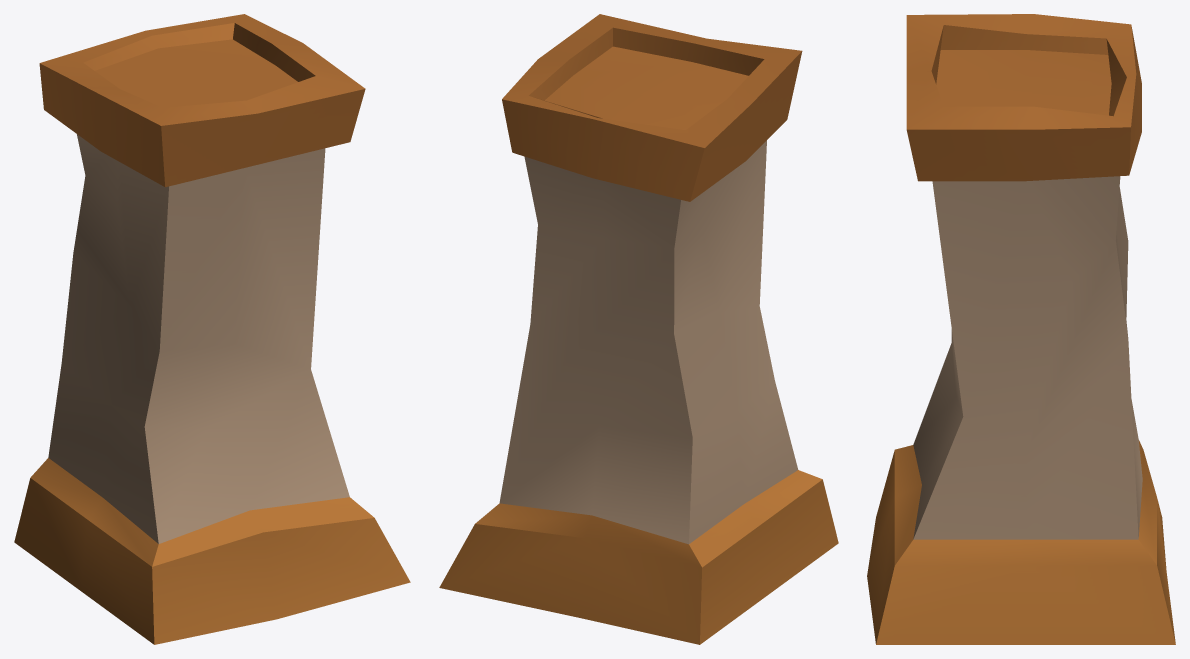
File: Pillar_dent_B.fbx
3 renders of one model, left to right at view 1: azimuth 30°, elevation 25°; view 2: azimuth 150°, elevation 25°; view 3: azimuth 270°, elevation 25°, orthographic. The views are drawn at different scales.
Visible parts, largest first — view 1: Pillar_dent_B; view 2: Pillar_dent_B; view 3: Pillar_dent_B.
Part boxes in pixels (x1=…): Pillar_dent_B: x1=14, y1=14, x2=410, y2=644; Pillar_dent_B: x1=439, y1=14, x2=838, y2=644; Pillar_dent_B: x1=867, y1=14, x2=1175, y2=644.
Bounding box in the file's own units: 50.96 × 95.49 × 52.09.
